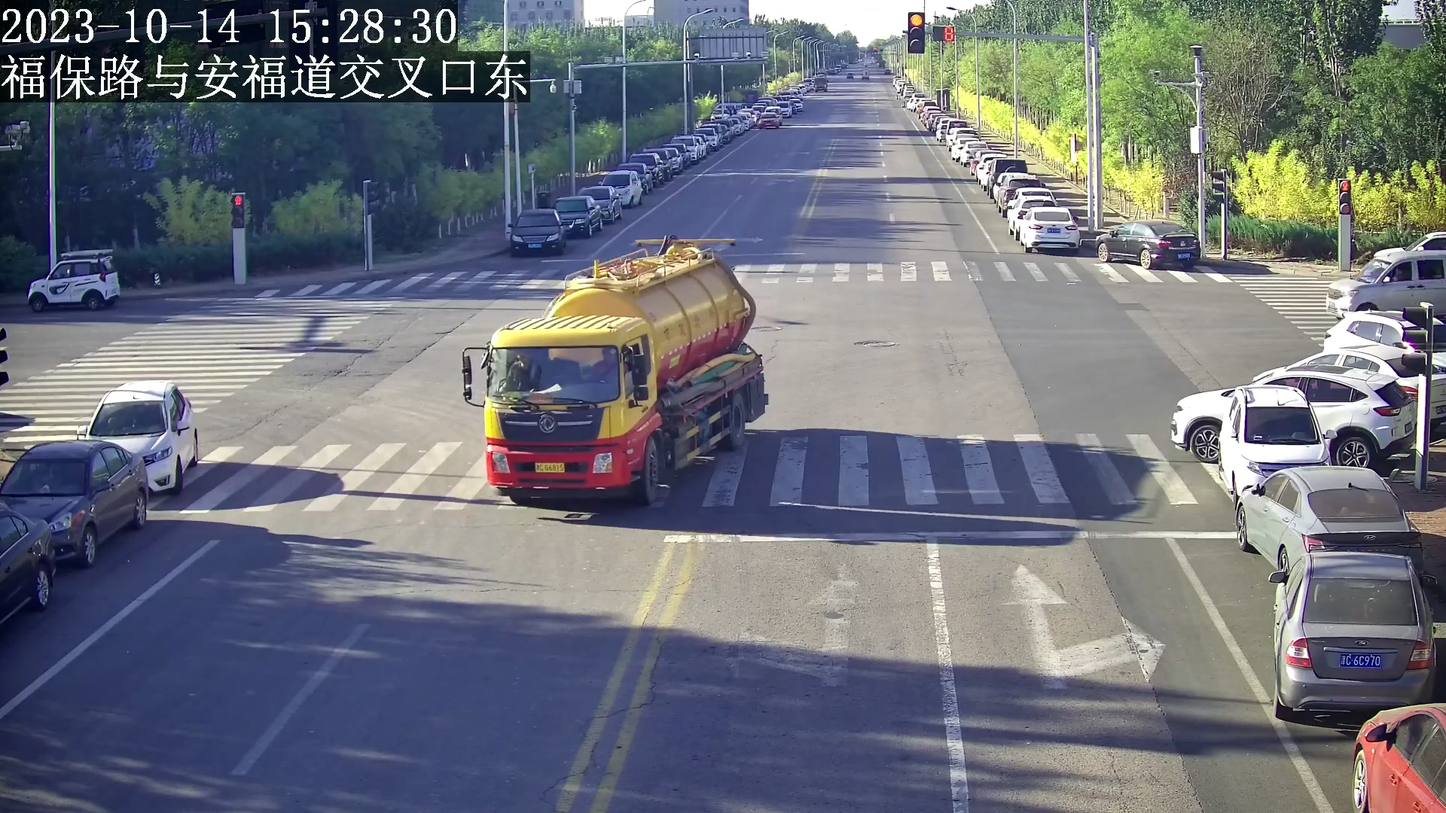vehicle: (464, 238, 770, 496), (1269, 550, 1433, 717), (1170, 361, 1413, 465), (1234, 464, 1423, 572), (3, 438, 148, 559), (75, 380, 200, 494), (1224, 383, 1334, 489), (1350, 707, 1446, 813), (1322, 252, 1442, 314), (26, 251, 124, 311), (1094, 218, 1201, 269), (1017, 205, 1082, 252), (508, 209, 562, 253), (555, 193, 600, 233)
